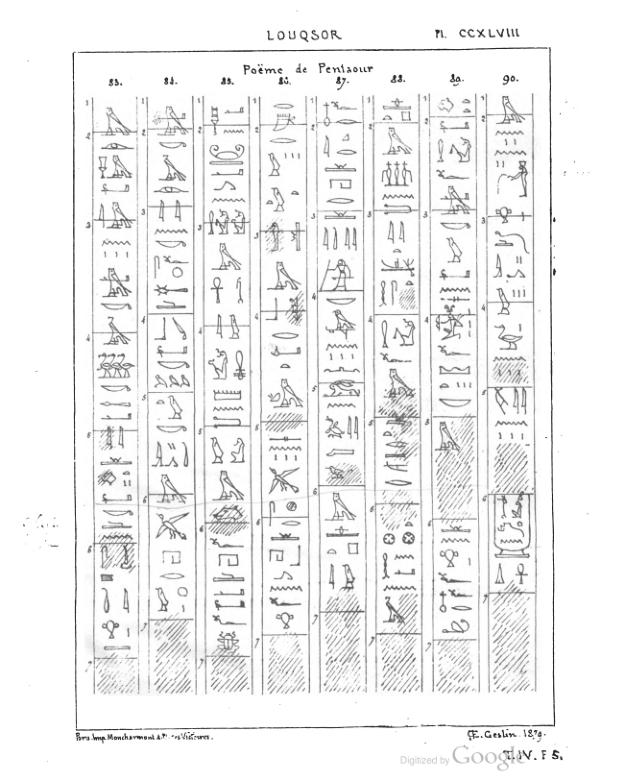circle: (490, 491, 534, 565)
